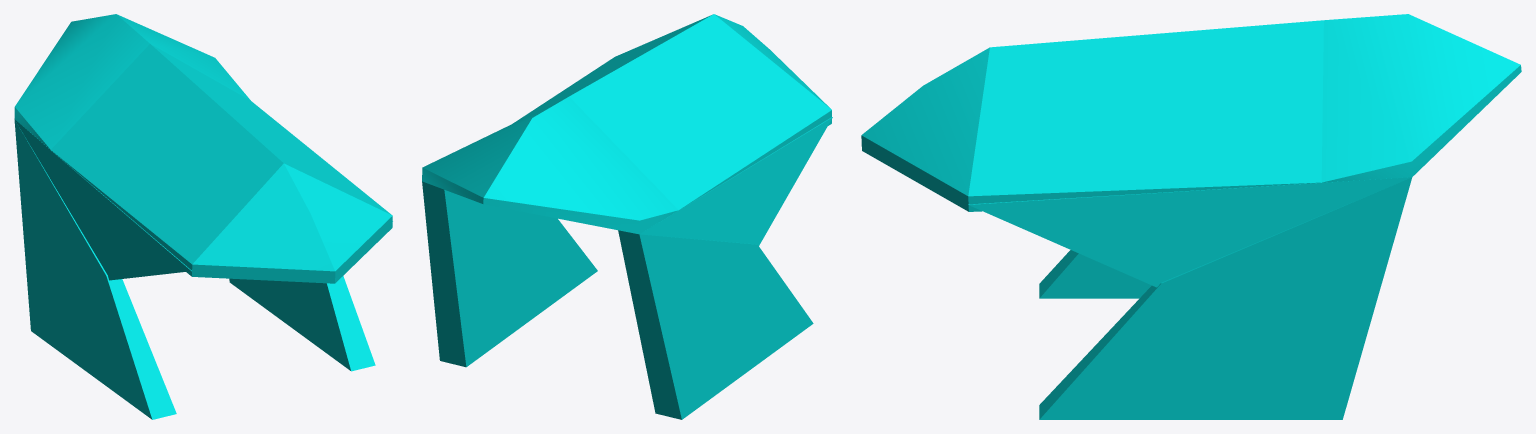
Rendered from Boat_Canopy_Collision.fbx.
3 renders of one model, left to right at view 1: azimuth 30°, elevation 25°; view 2: azimuth 150°, elevation 25°; view 3: azimuth 270°, elevation 25°, orthographic. The views are drawn at different scales.
Parts seen in each view (by area): view 1: Boat_Canopy_Collision; view 2: Boat_Canopy_Collision; view 3: Boat_Canopy_Collision.
Boxes of the visible parts, x1,y1,x2,y2 form: Boat_Canopy_Collision: (14, 14, 392, 419); Boat_Canopy_Collision: (422, 14, 832, 419); Boat_Canopy_Collision: (861, 14, 1521, 419).
Size of the model in its own units: 323 by 374 by 662.
